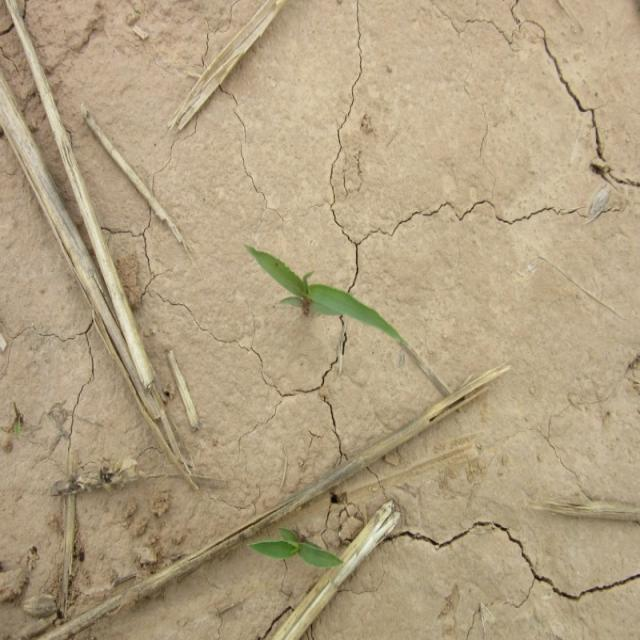bg: (246, 239, 404, 360)
